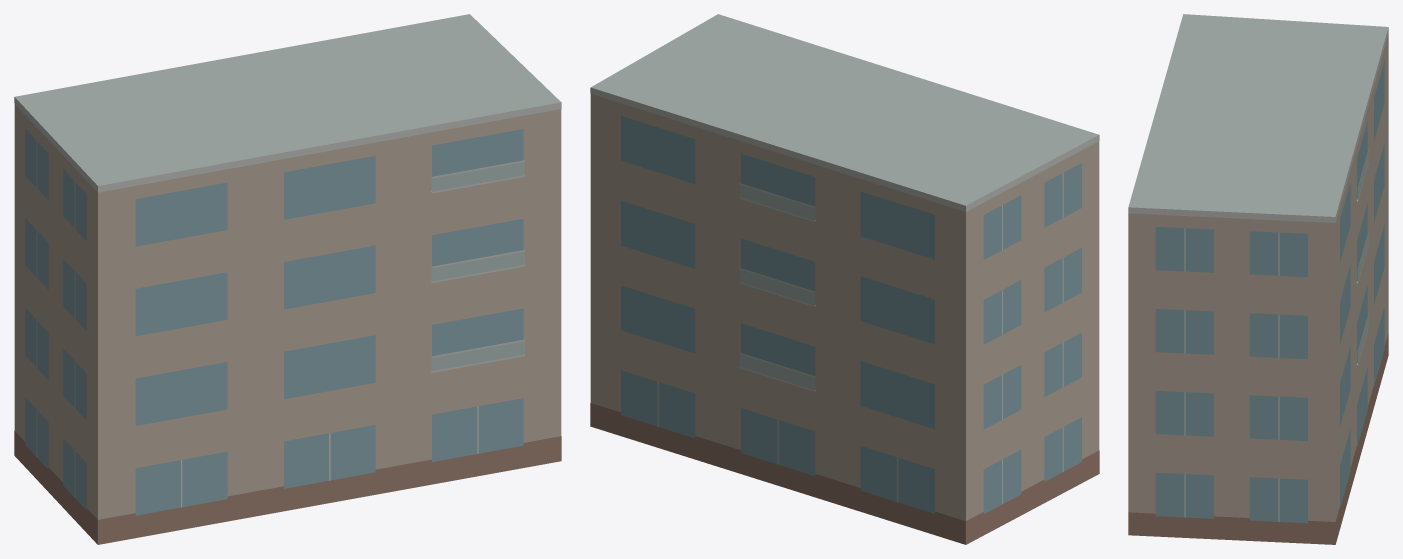
File: survey-upis-32828293.glb
3 views of the same model, side by side, from view 1: azimuth 30°, elevation 25°; view 2: azimuth 150°, elevation 25°; view 3: azimuth 270°, elevation 25° (orthographic). The views are drawn at different scales.
Visible parts, largest first — view 1: survey-upis-32828293.tmp; view 2: survey-upis-32828293.tmp; view 3: survey-upis-32828293.tmp.
Boxes of the visible parts, left/top/right/bottom form: survey-upis-32828293.tmp: left=14, top=14, right=561, bottom=544; survey-upis-32828293.tmp: left=590, top=14, right=1099, bottom=544; survey-upis-32828293.tmp: left=1128, top=14, right=1388, bottom=544.
Bounding box in the file's own units: 17.6 × 13.25 × 9.54.
